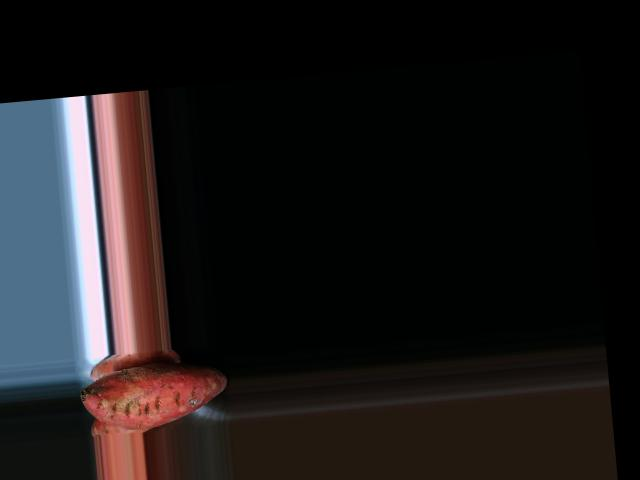sweet_potato: (78, 364, 229, 429)
